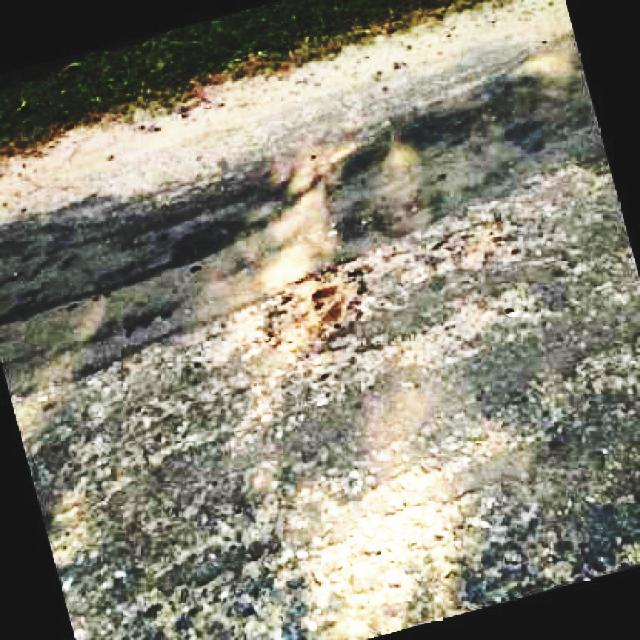pothole: (411, 197, 526, 278), (265, 263, 366, 354)
